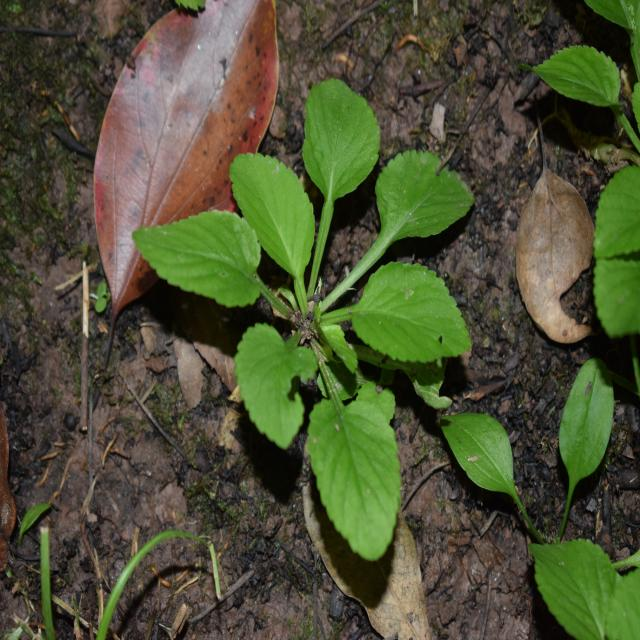Viola: (143, 77, 471, 550)
